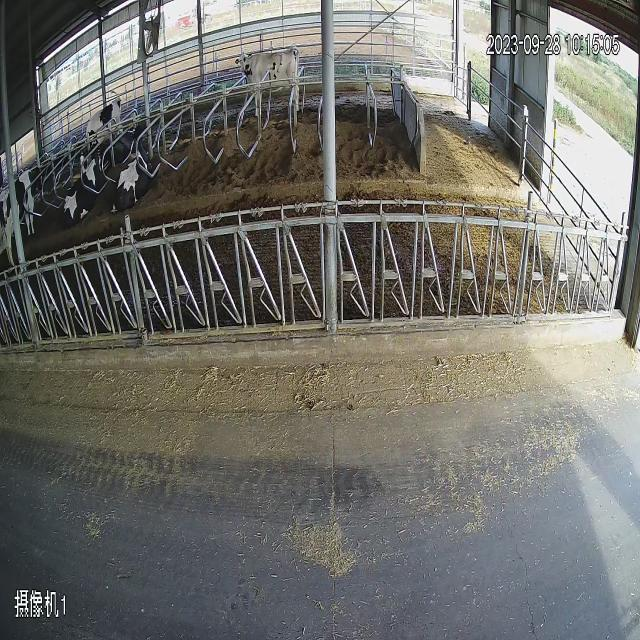lying down: (4, 138, 48, 260), (109, 134, 161, 215), (61, 134, 101, 235)
standing: (232, 35, 318, 124)
